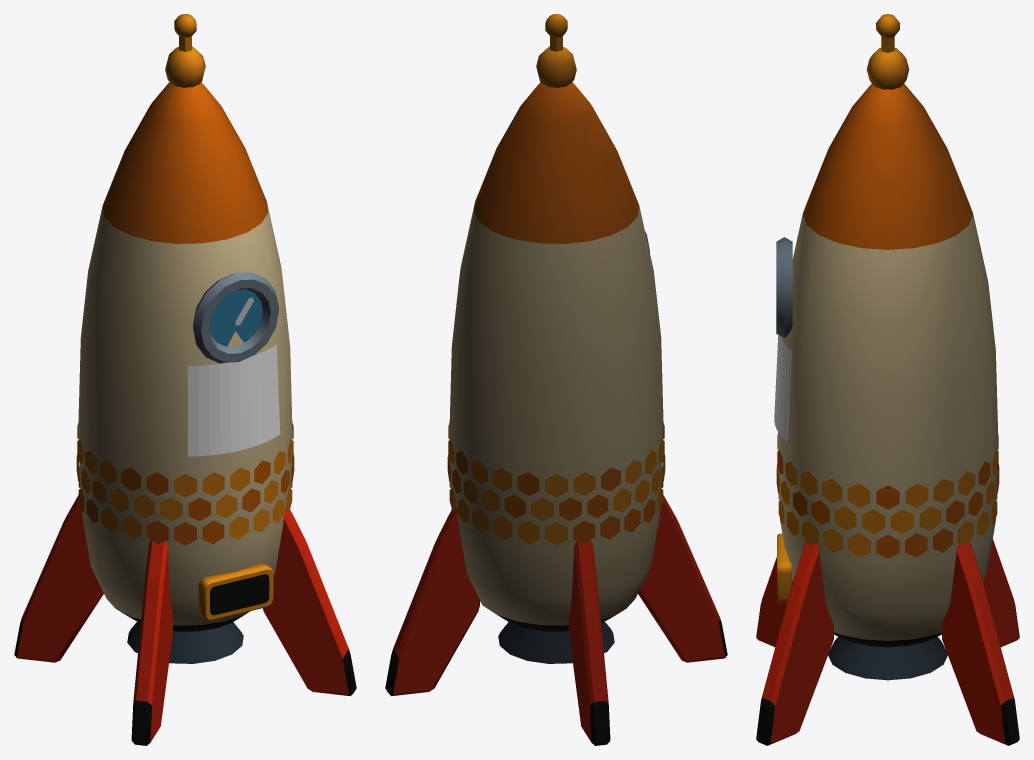
File: rocket.fbx
3 views of the same model, side by side, from view 1: azimuth 30°, elevation 25°; view 2: azimuth 150°, elevation 25°; view 3: azimuth 270°, elevation 25° (orthographic). The views are drawn at different scales.
Parts seen in each view (by area): view 1: Hull, Printed HONEYMOON-1 marking; view 2: Hull; view 3: Hull, Printed HONEYMOON-1 marking.
Boxes of the visible parts, x1,y1,x2,y2 form: Hull: [14, 14, 356, 745]; Printed HONEYMOON-1 marking: [188, 345, 280, 456]; Hull: [385, 14, 727, 745]; Hull: [756, 14, 1019, 745]; Printed HONEYMOON-1 marking: [774, 335, 791, 441].
Size of the model in its own units: 0.21 by 0.595 by 0.21.
